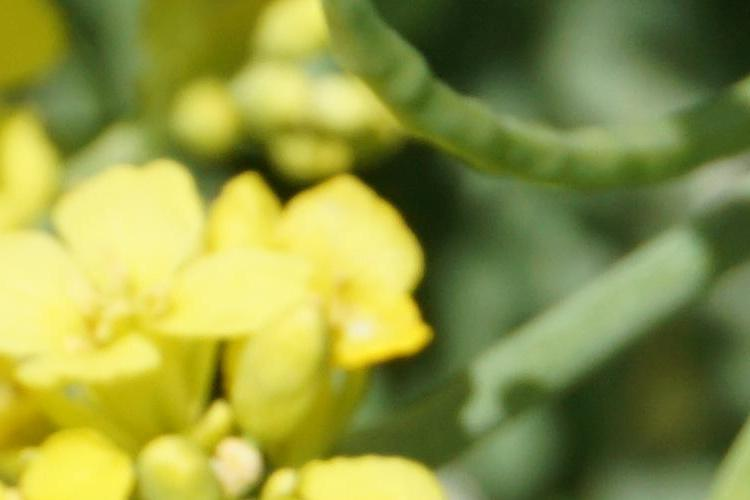yellow: (4, 149, 264, 432), (203, 171, 419, 443)
